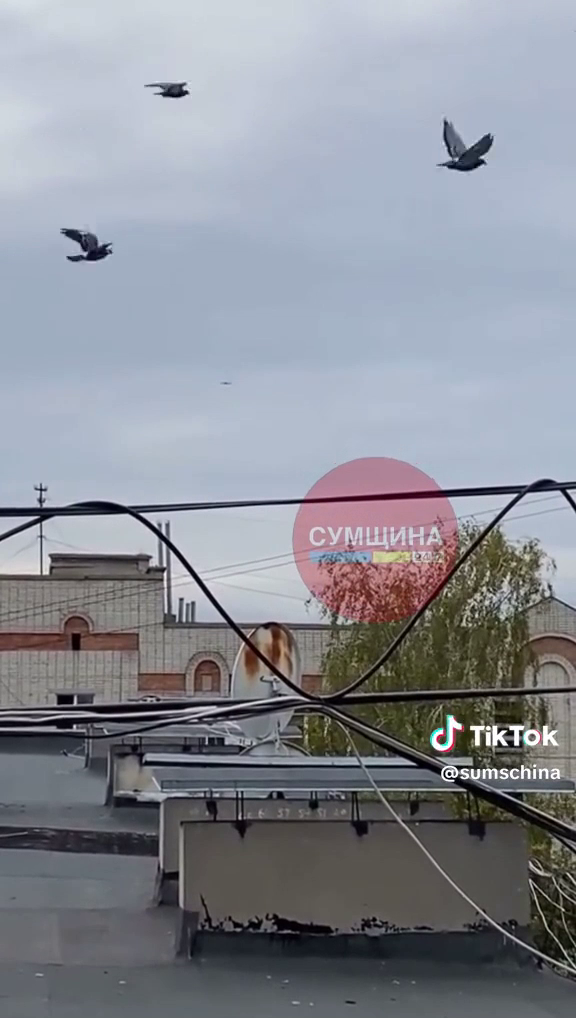not_drone: (424, 104, 507, 187), (39, 216, 138, 279), (140, 77, 197, 104)
